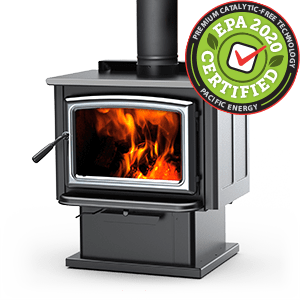stove: (76, 3, 182, 271)
